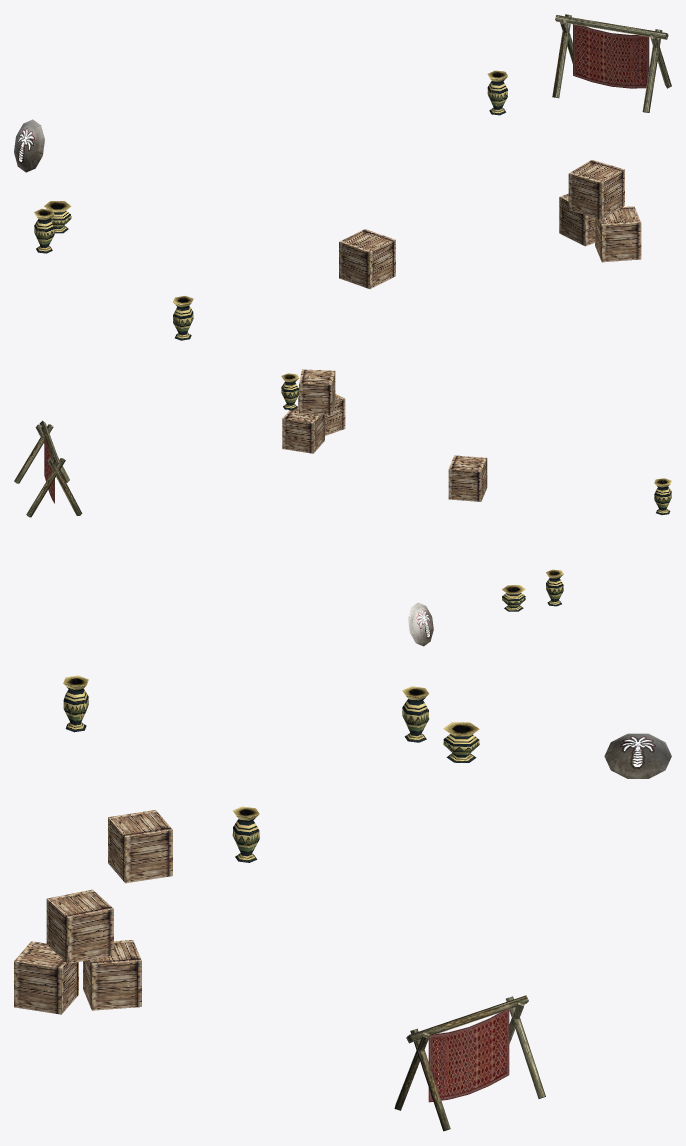
Rendered from kart_civiccentre_b.dae.
The picture shows the model from 3 angles, top to bottom: view 1: azimuth 30°, elevation 25°; view 2: azimuth 150°, elevation 25°; view 3: azimuth 270°, elevation 25°; orthographic projection. The views are drawn at different scales.
Visible parts, largest first — view 1: Cylinder15-Pivot; view 2: Cylinder15-Pivot; view 3: Cylinder15-Pivot.
Part boxes in pixels (x1,y1,x2,y2): Cylinder15-Pivot: [14, 14, 671, 340]; Cylinder15-Pivot: [14, 369, 671, 646]; Cylinder15-Pivot: [14, 675, 671, 1131].
Bounding box in the file's own units: 27.89 × 19.45 × 5.51.
